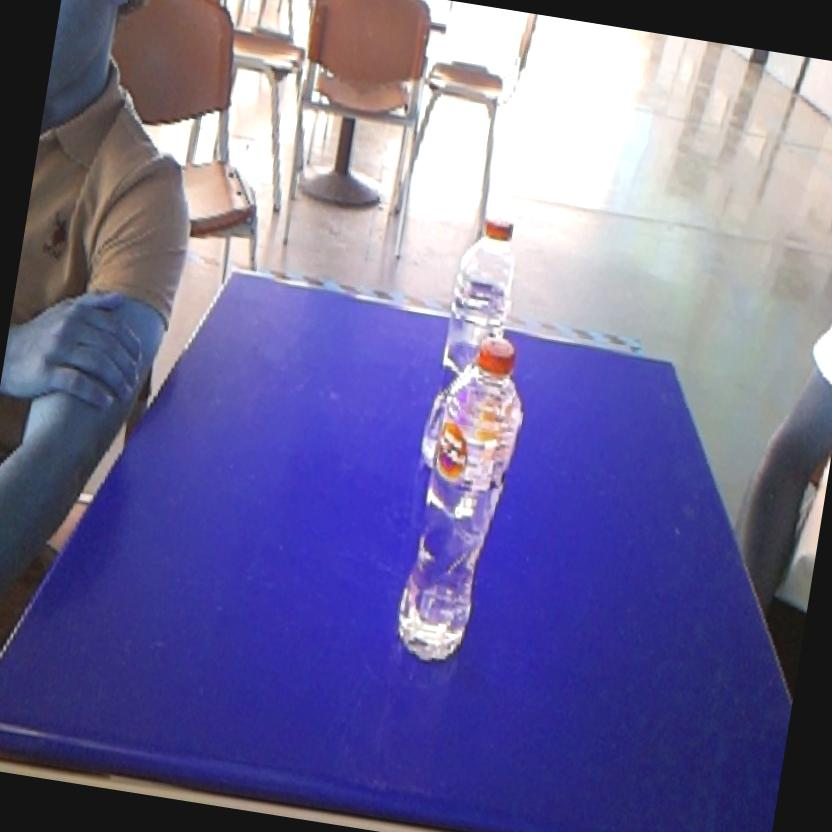good: (385, 324, 544, 684)
no_label: (442, 196, 535, 335)
